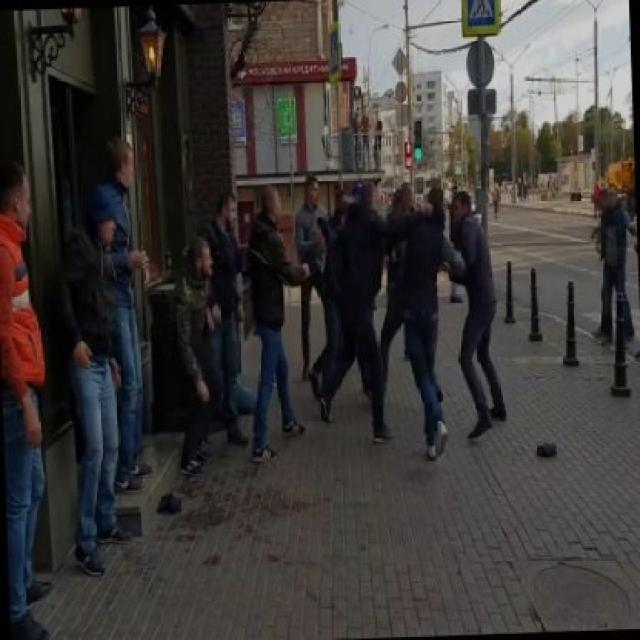fight: (303, 166, 509, 460)
non-fight: (69, 124, 162, 578), (0, 151, 69, 638), (240, 182, 325, 464), (586, 108, 639, 352)
